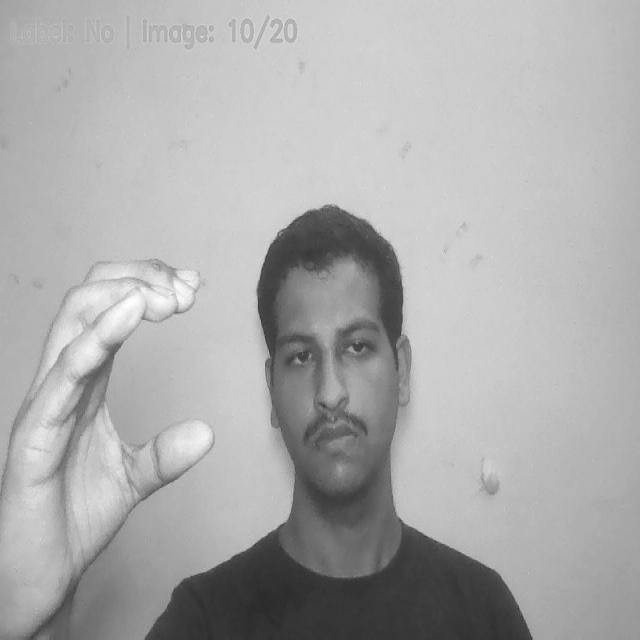No: (6, 256, 211, 572)
